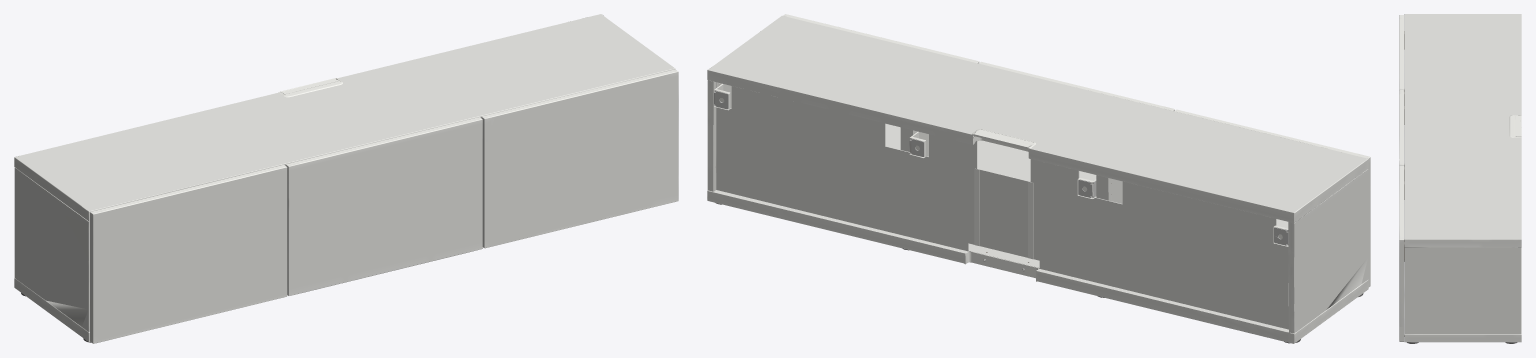
File: storage-15.glb
The picture shows the model from 3 angles, left to right: view 1: azimuth 30°, elevation 25°; view 2: azimuth 150°, elevation 25°; view 3: azimuth 270°, elevation 25°; orthographic projection. The views are drawn at different scales.
Visible parts, largest first — view 1: 60294504-TV bnch 180x40x38 white001, 00291674-door/drawer fr 60x38 white001, 00291674-door/drawer fr 60x38 white003, 00291674-door/drawer fr 60x38 white002; view 2: 60294504-TV bnch 180x40x38 white001, 00295554-shelf 56x36 white001, 00291674-door/drawer fr 60x38 white001, 00291674-door/drawer fr 60x38 white003, 00291674-door/drawer fr 60x38 white002; view 3: 60294504-TV bnch 180x40x38 white001, 00291674-door/drawer fr 60x38 white003, 00291674-door/drawer fr 60x38 white002, 00291674-door/drawer fr 60x38 white001.
Boxes of the visible parts, <box> form: 60294504-TV bnch 180x40x38 white001: <box>14,14,675,342</box>; 00291674-door/drawer fr 60x38 white001: <box>90,165,287,343</box>; 00291674-door/drawer fr 60x38 white003: <box>481,69,678,248</box>; 00291674-door/drawer fr 60x38 white002: <box>285,117,482,295</box>; 60294504-TV bnch 180x40x38 white001: <box>707,15,1368,343</box>; 00295554-shelf 56x36 white001: <box>977,140,1096,197</box>; 00291674-door/drawer fr 60x38 white001: <box>1174,109,1370,287</box>; 00291674-door/drawer fr 60x38 white003: <box>783,14,979,63</box>; 00291674-door/drawer fr 60x38 white002: <box>979,61,1174,110</box>; 60294504-TV bnch 180x40x38 white001: <box>1404,14,1521,343</box>; 00291674-door/drawer fr 60x38 white003: <box>1399,165,1403,341</box>; 00291674-door/drawer fr 60x38 white002: <box>1399,90,1403,165</box>; 00291674-door/drawer fr 60x38 white001: <box>1399,15,1403,89</box>.
Bounding box in the file's own units: 1.8 × 0.3941 × 0.4129.
Materials: 1 (1 with a texture image).
